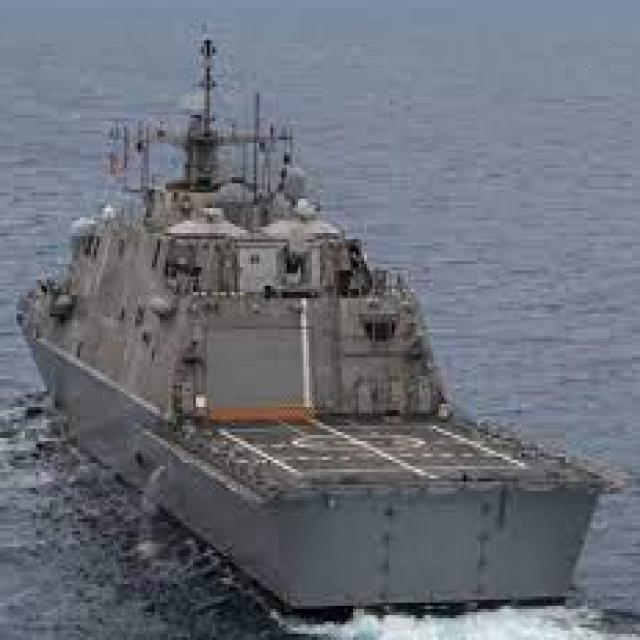navalvessels: (16, 34, 623, 618)
